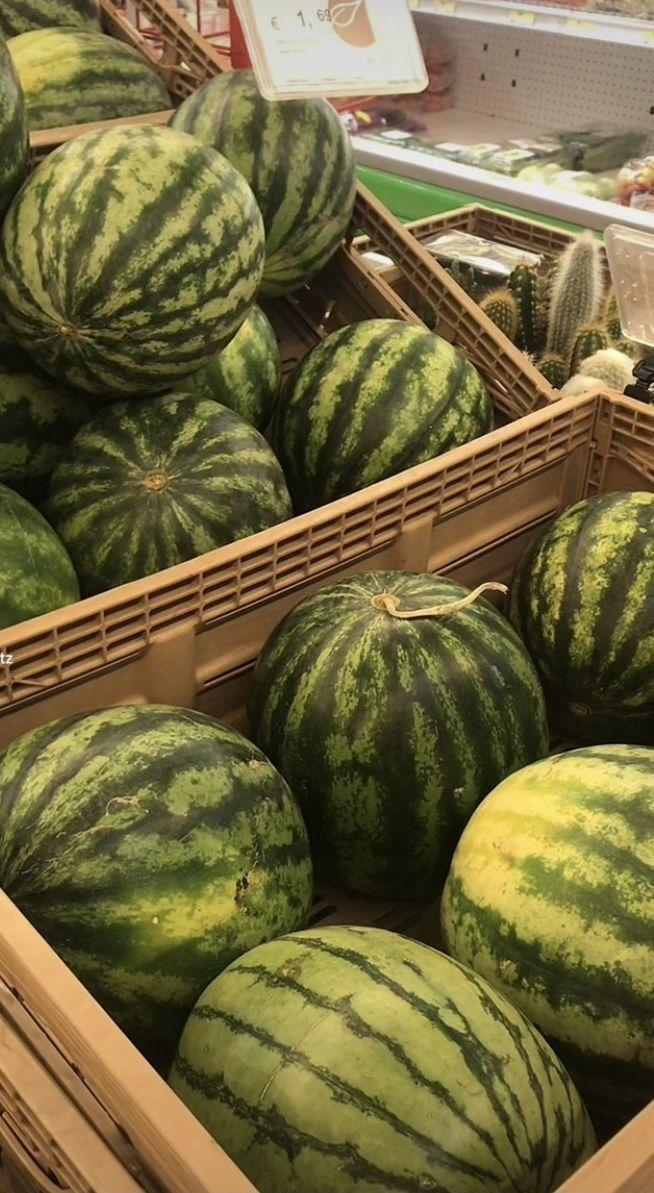watermelon: (165, 923, 598, 1191), (244, 567, 548, 899), (0, 688, 323, 993), (438, 740, 653, 1090), (0, 104, 267, 379), (43, 389, 293, 597), (271, 316, 496, 513), (166, 66, 356, 297), (508, 488, 653, 742), (0, 25, 168, 136), (0, 463, 79, 630)
